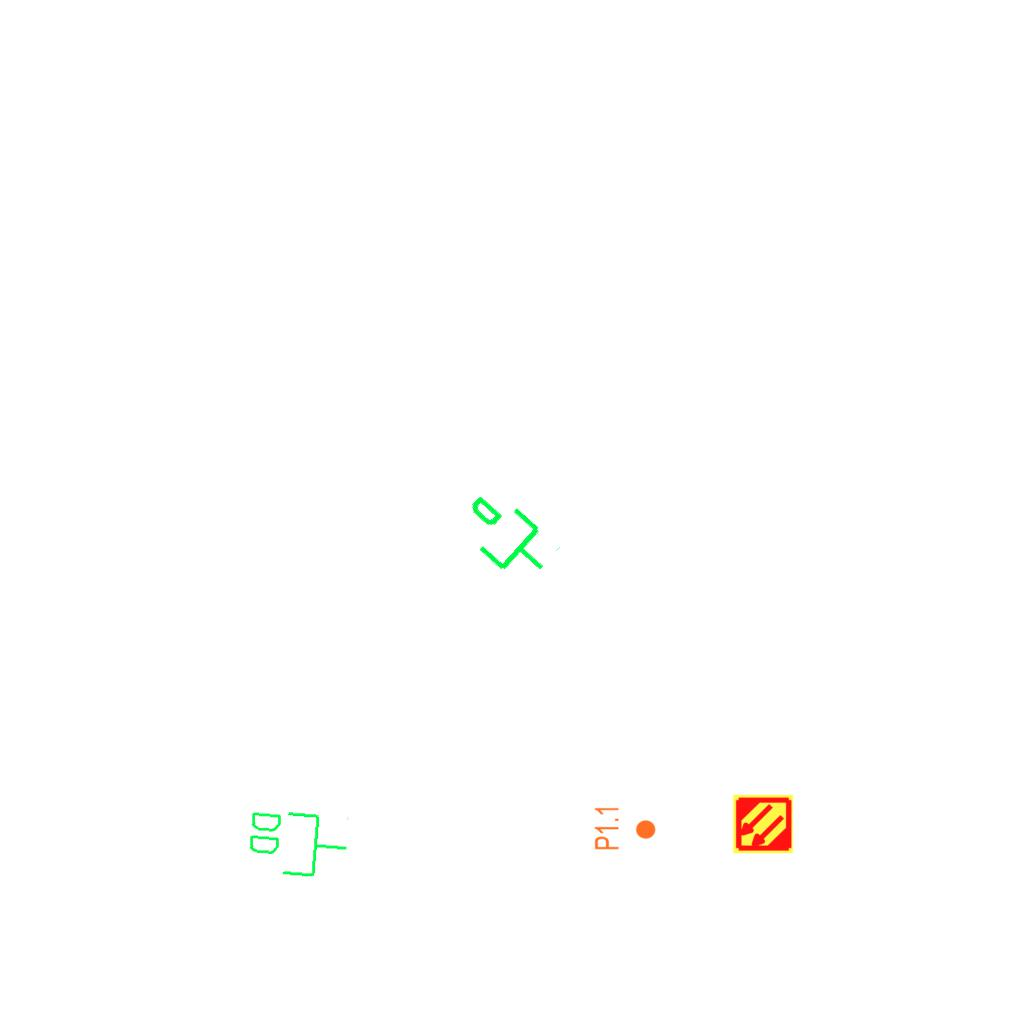ASR_Ansaugrauchmelder: (732, 793, 794, 855)
Datenanschluss_einfach: (445, 478, 566, 598)
Datenanschluss_zweifach: (243, 804, 352, 883)
Downlight_LED_Einbauleuchten_Flur: (593, 805, 657, 851)
